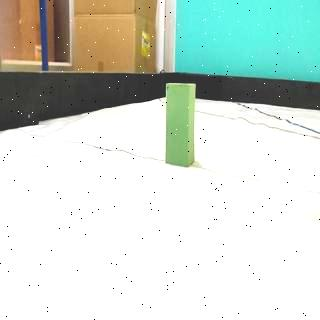greenbox: (164, 82, 196, 166)
